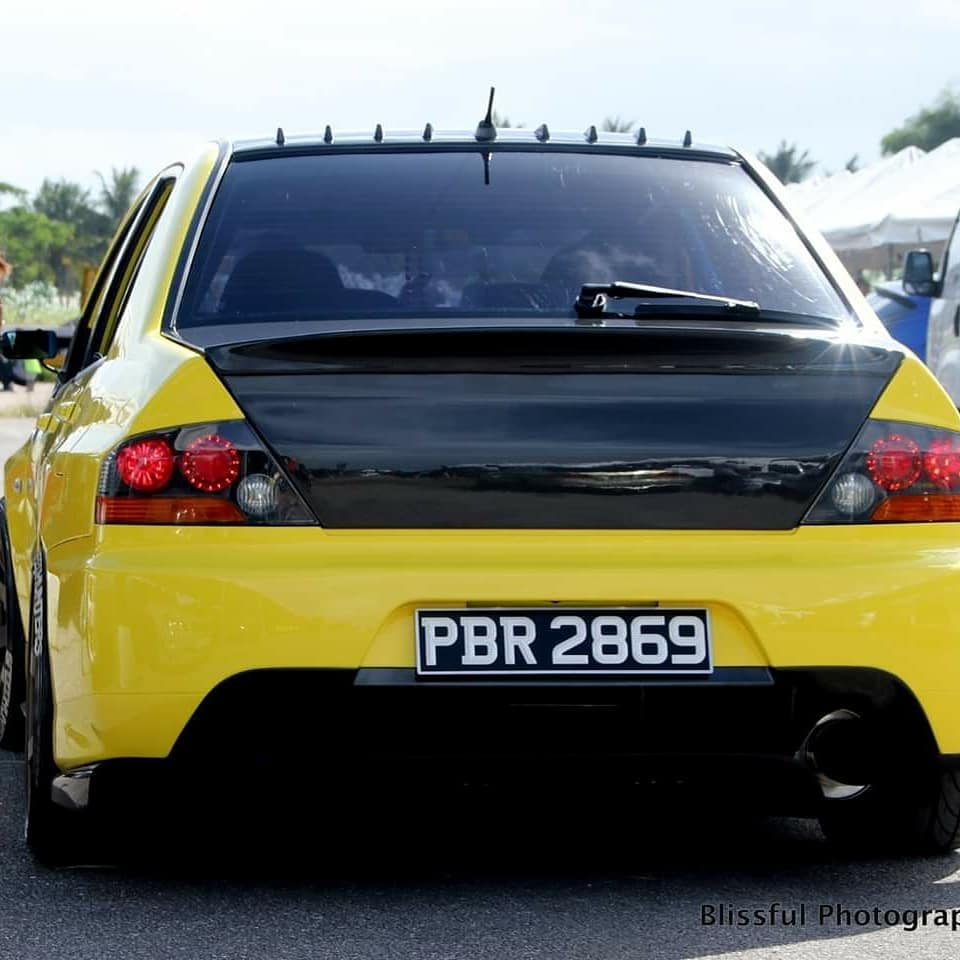License-Plate: (414, 609, 711, 673)
